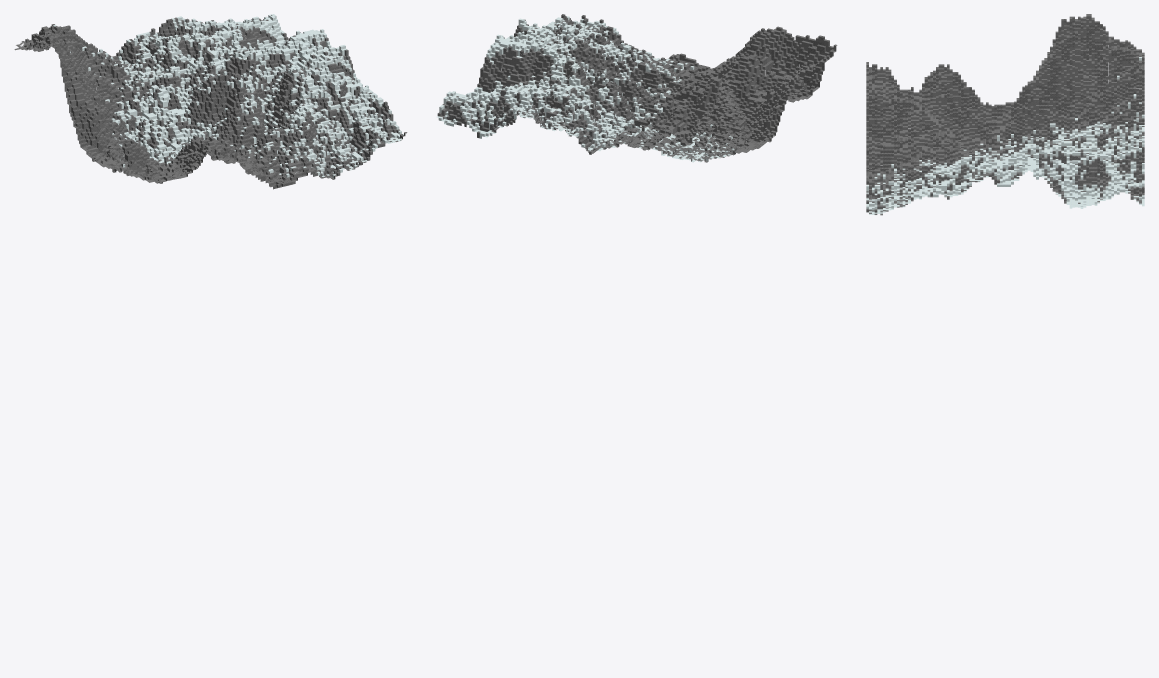
The model's file is chunk4300-700-lvl-1-transformed.glb.
3 views of the same model, side by side, from view 1: azimuth 30°, elevation 25°; view 2: azimuth 150°, elevation 25°; view 3: azimuth 270°, elevation 25° (orthographic). The views are drawn at different scales.
Parts seen in each view (by area): view 1: Snow_Block, Cobblestone, Stone; view 2: Stone, Cobblestone, Snow_Block; view 3: Stone, Cobblestone, Snow_Block.
Part boxes in pixels (x1,y1,x2,y2): Snow_Block: (53,14,405,177); Cobblestone: (17,18,407,189); Stone: (14,17,398,186); Stone: (437,17,837,162); Cobblestone: (446,14,834,160); Snow_Block: (436,16,734,162); Stone: (866,14,1144,215); Cobblestone: (866,16,1144,214); Snow_Block: (866,57,1144,215).
Size of the model in its own units: 100 by 211 by 100.
14 materials, 14 textured.
